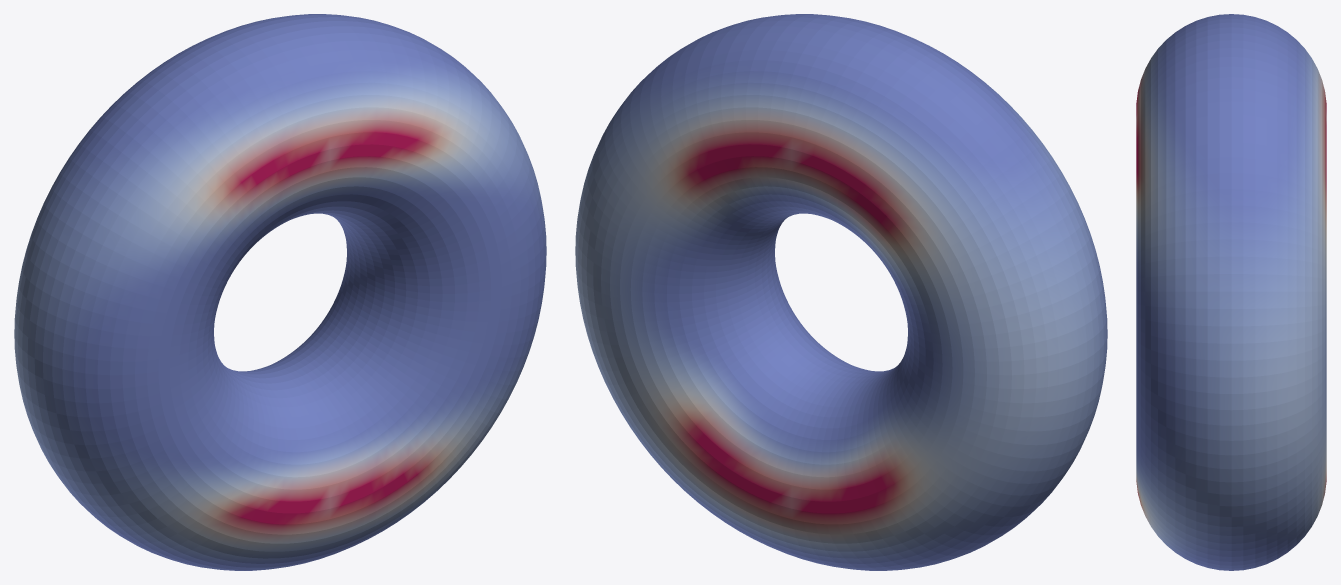
3 views of the same model, side by side, from view 1: azimuth 30°, elevation 25°; view 2: azimuth 150°, elevation 25°; view 3: azimuth 270°, elevation 25° (orthographic). The views are drawn at different scales.
Visible parts, largest first — view 1: world; view 2: world; view 3: world.
Part boxes in pixels (bbox=[...]): world: bbox=[14, 14, 546, 570]; world: bbox=[575, 14, 1107, 570]; world: bbox=[1136, 14, 1326, 570].
Bounding box in the file's own units: 15.2 × 15.2 × 5.19.
